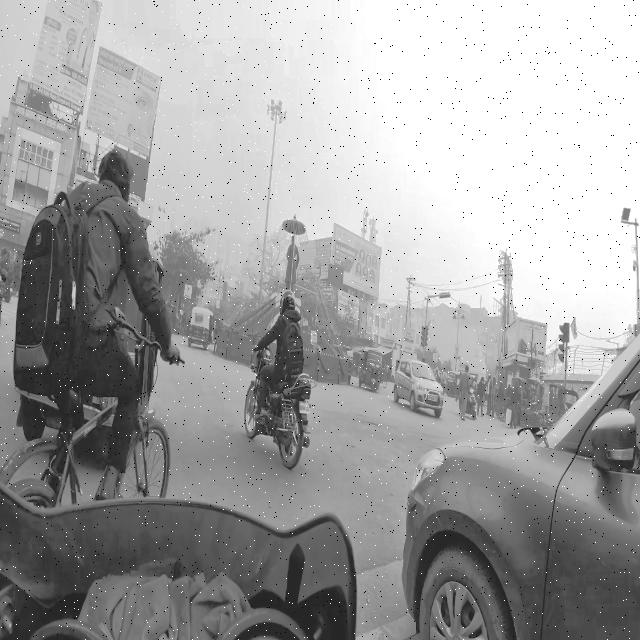Auto-Rickshaw: (186, 292, 217, 346), (359, 345, 383, 394)
Bike: (244, 287, 316, 470)
Car: (399, 318, 640, 640), (392, 354, 449, 421)
